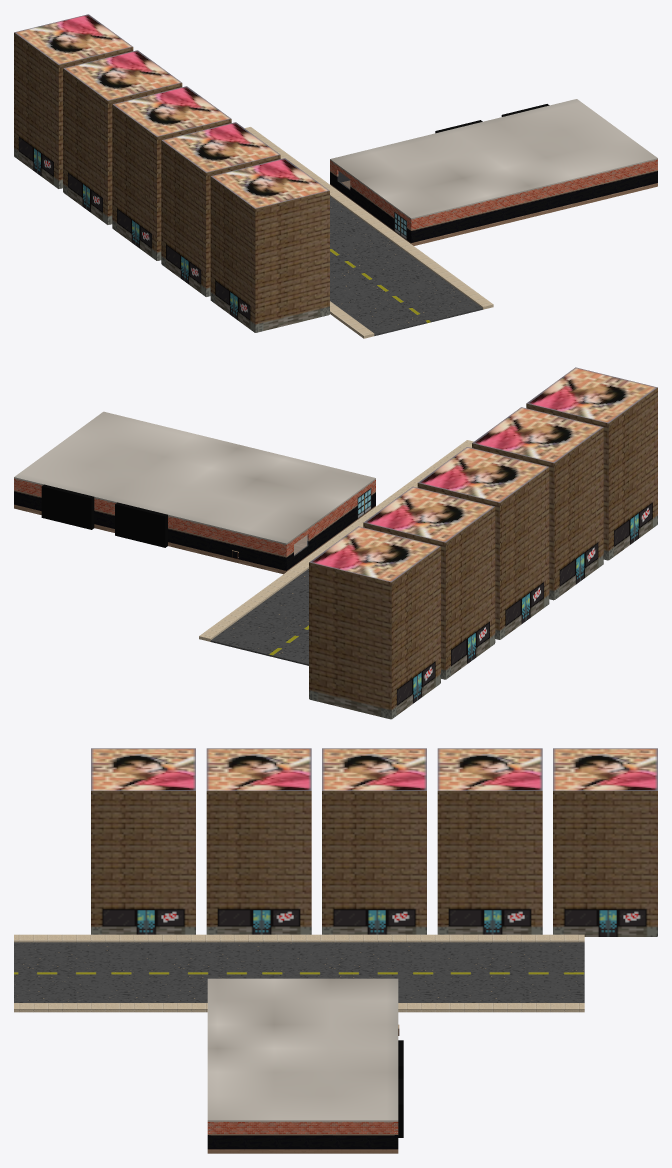
File: MainMenuScene.fbx
3 views of the same model, one above another, from view 1: azimuth 30°, elevation 25°; view 2: azimuth 150°, elevation 25°; view 3: azimuth 270°, elevation 25° (orthographic). The views are drawn at different scales.
Visible parts, largest first — view 1: Building, Roof, SideWalk and Road, Wall, Floor; view 2: Building, Roof, SideWalk and Road, Wall, BlackBox, BlackBox.001, Floor; view 3: Building, SideWalk and Road, Roof, Wall, Floor.
Part boxes in pixels (x1,y1,x2,y2): Building: [14, 14, 329, 332]; Roof: [330, 99, 657, 219]; SideWalk and Road: [245, 127, 493, 338]; Wall: [330, 159, 657, 242]; Floor: [330, 180, 657, 245]; Building: [309, 367, 657, 719]; Roof: [14, 411, 375, 544]; SideWalk and Road: [199, 440, 473, 665]; Wall: [14, 478, 375, 570]; BlackBox: [41, 484, 94, 529]; BlackBox.001: [115, 502, 167, 547]; Floor: [14, 504, 375, 574]; Building: [91, 748, 657, 936]; SideWalk and Road: [14, 934, 584, 1012]; Roof: [207, 978, 398, 1121]; Wall: [207, 1121, 398, 1149]; Floor: [207, 1149, 398, 1153].
Size of the model in its own units: 8576 by 2253 by 8999.
